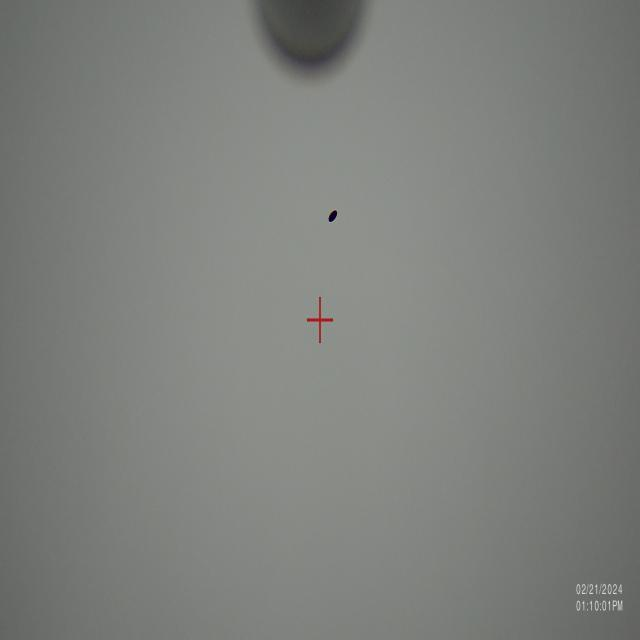entire: (325, 201, 341, 232)
